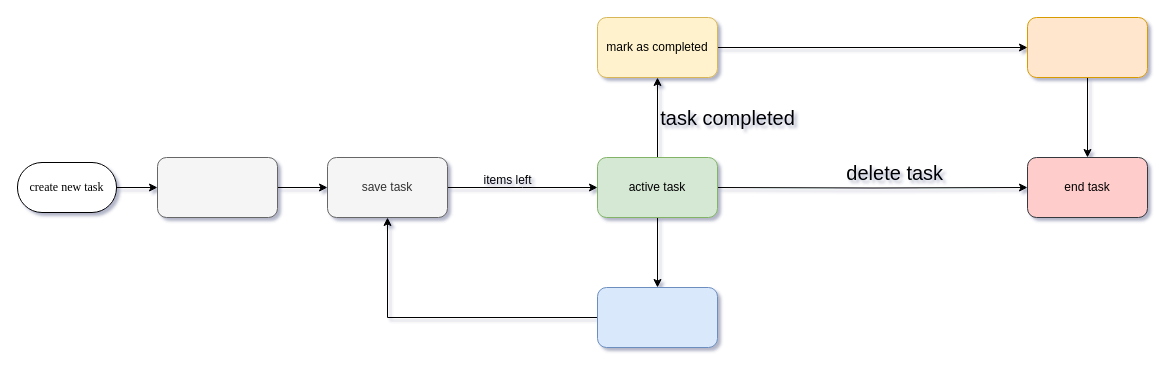
The diagram is 1171 pixels wide and 371 high, and some of its shapes have lost their labels. Here are the shapes that lost their labels. From the top down, the centre of each, then its label:
point (1087, 47): clear completed
point (217, 187): render task
point (657, 317): edit task
